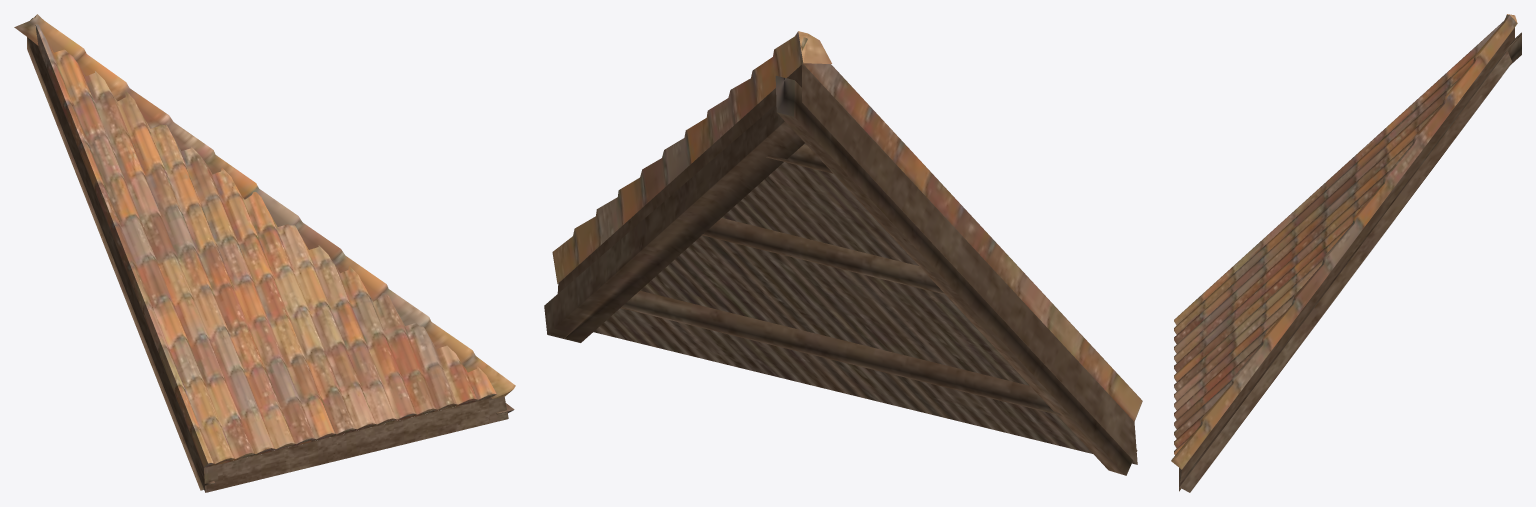
The model's file is roof.adobe.corner.90.convex.r.glb.
The picture shows the model from 3 angles, left to right: view 1: azimuth 30°, elevation 25°; view 2: azimuth 150°, elevation 25°; view 3: azimuth 270°, elevation 25°; orthographic projection. The views are drawn at different scales.
Visible parts, largest first — view 1: model; view 2: model; view 3: model.
Part boxes in pixels (left/top/right/bottom): model: left=14, top=14, right=515, bottom=492; model: left=544, top=31, right=1142, bottom=475; model: left=1171, top=14, right=1521, bottom=492.
Size of the model in its own units: 3.22 by 3.34 by 3.13.
Materials: 1 (1 with a texture image).
